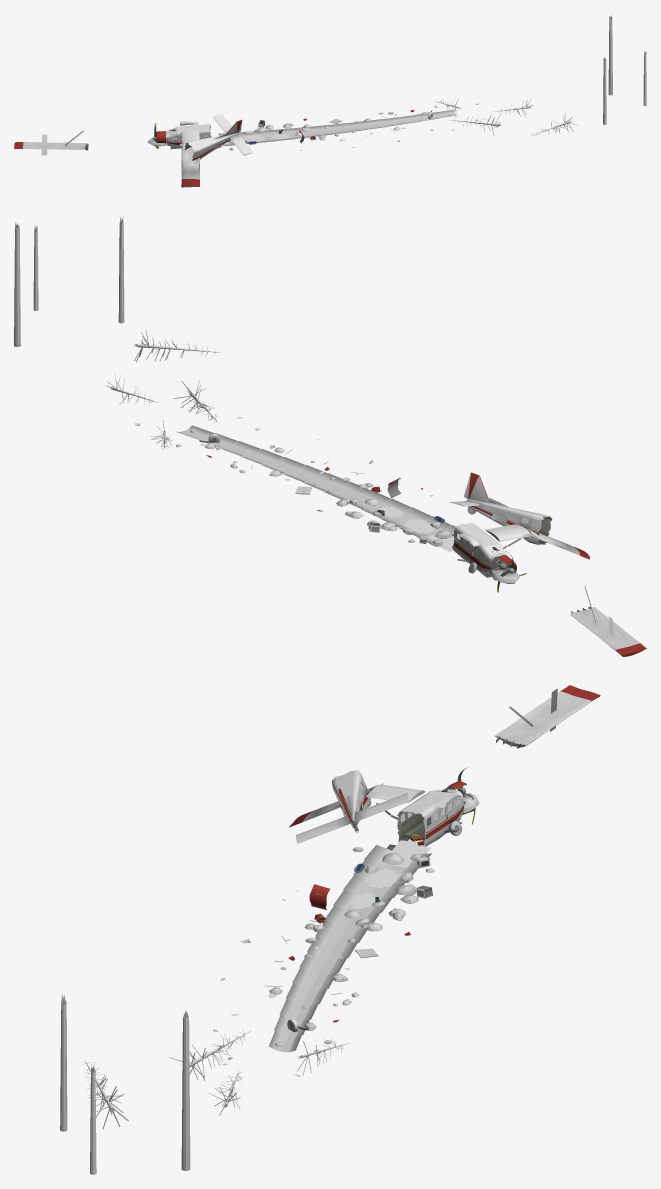
Rendered from crash_site.glb.
3 views of the same model, one above another, from view 1: azimuth 30°, elevation 25°; view 2: azimuth 150°, elevation 25°; view 3: azimuth 270°, elevation 25° (orthographic). The views are drawn at different scales.
Visible parts, largest first — view 1: main, ground, detail; view 2: main, ground, detail; view 3: main, ground, detail.
Boxes of the visible parts, bbox=[...] form: main: bbox=[14, 15, 646, 187]; ground: bbox=[147, 105, 456, 150]; detail: bbox=[41, 103, 485, 155]; main: bbox=[14, 216, 646, 656]; ground: bbox=[165, 425, 519, 583]; detail: bbox=[134, 406, 613, 649]; main: bbox=[60, 685, 600, 1174]; ground: bbox=[269, 793, 479, 1053]; detail: bbox=[213, 688, 557, 1076].
Bounding box in the file's own units: 63.56 × 11.55 × 28.98.
